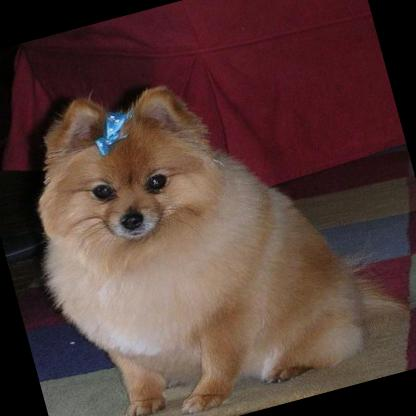Pomeranian: (2, 34, 408, 416)
